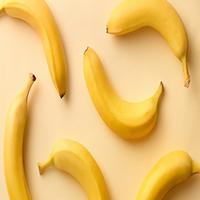banane: (78, 36, 179, 148), (99, 2, 200, 109), (1, 3, 71, 102), (3, 70, 47, 200), (116, 149, 198, 200), (42, 139, 99, 200)
